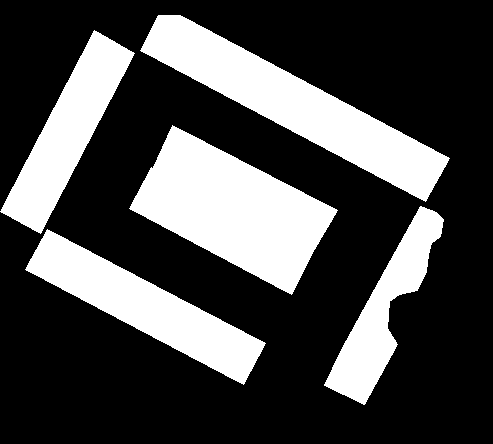parkingspot: (140, 15, 449, 201), (25, 229, 265, 384), (0, 30, 134, 233), (152, 125, 337, 254), (324, 206, 443, 404), (129, 167, 313, 294)
